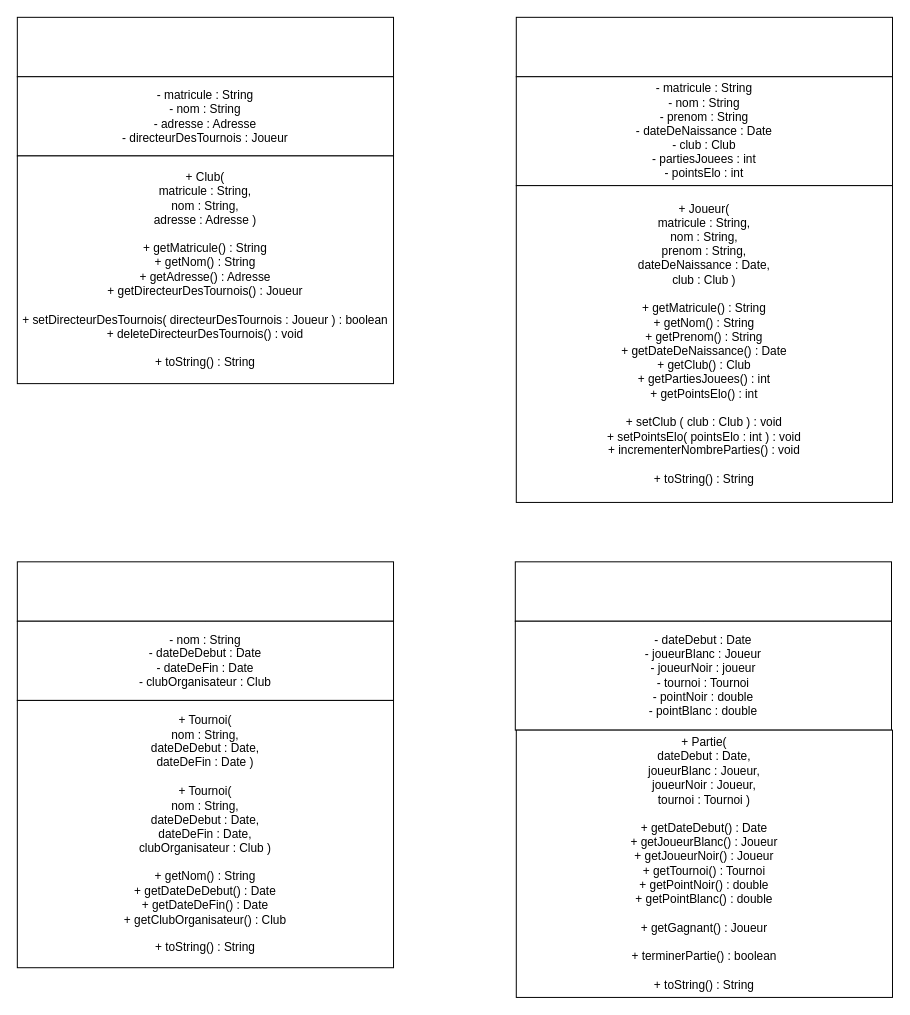
This 910x1015 diagram has some shape labels left out. Each missing label, with the centre of its shape:
"Club" belongs at pixel 205 46.
"Joueur" belongs at pixel 703 46.
"Partie" belongs at pixel 702 591.
"Tournoi" belongs at pixel 205 591.
